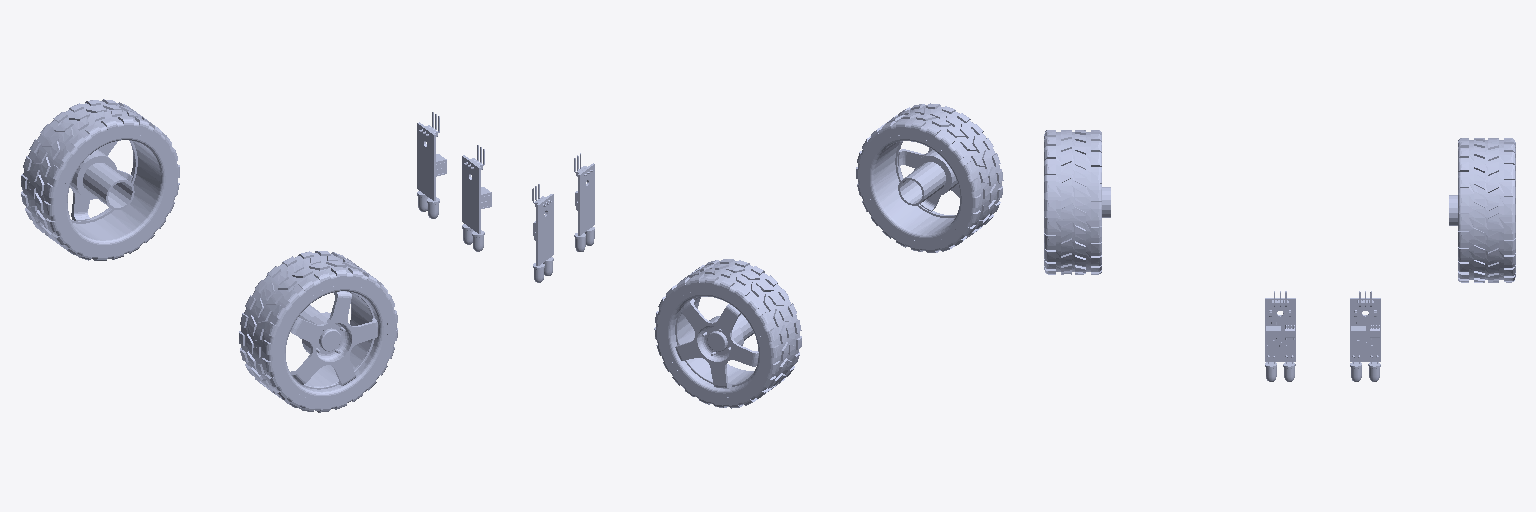
robot.urdf — modelo_carrinho:
<?xml version="1.0" encoding="utf-8"?>
<!-- This URDF was automatically created by SolidWorks to URDF Exporter! Originally created by [author] ([email redacted]) 
     Commit Version: 1.6.0-1-g15f4949  Build Version: 1.6.7594.29634
     For more information, please see http://wiki.ros.org/sw_urdf_exporter -->
<robot
  name="modelo_carrinho">
  <link
    name="base_link">
    <inertial>
      <origin
        xyz="0.0395767326211164 3.7251184446252E-06 -0.0164029992441527"
        rpy="0 0 0" />
      <mass
        value="0.0297313079671725" />
      <inertia
        ixx="4.88803892671331E-05"
        ixy="5.70121507054806E-21"
        ixz="1.86566442421859E-23"
        iyy="0.000107552977589956"
        iyz="-4.42764590535738E-23"
        izz="0.000156250479332308" />
    </inertial>
    <visual>
      <origin
        xyz="0 0 0"
        rpy="0 0 0" />
      <geometry>
        <mesh
          filename="package://modelo_carrinho/meshes/base_link.STL" />
      </geometry>
      <material
        name="">
        <color
          rgba="1 1 1 1" />
      </material>
    </visual>
    <collision>
      <origin
        xyz="0 0 0"
        rpy="0 0 0" />
      <geometry>
        <mesh
          filename="package://modelo_carrinho/meshes/base_link.STL" />
      </geometry>
    </collision>
  </link>
  <link
    name="sonar_link">
    <inertial>
      <origin
        xyz="0.16231800155356 0.000182522542346367 -0.00345290410239733"
        rpy="0 0 0" />
      <mass
        value="0.0041537160429322" />
      <inertia
        ixx="8.24275084489945E-07"
        ixy="-5.01121738699726E-13"
        ixz="-3.41590248007688E-10"
        iyy="1.86665488656075E-07"
        iyz="1.11208166672831E-12"
        izz="7.86229940420769E-07" />
    </inertial>
    <visual>
      <origin
        xyz="0 0 0"
        rpy="0 0 0" />
      <geometry>
        <mesh
          filename="package://modelo_carrinho/meshes/sonar_link.STL" />
      </geometry>
      <material
        name="">
        <color
          rgba="0.792156862745098 0.819607843137255 0.933333333333333 1" />
      </material>
    </visual>
    <collision>
      <origin
        xyz="0 0 0"
        rpy="0 0 0" />
      <geometry>
        <mesh
          filename="package://modelo_carrinho/meshes/sonar_link.STL" />
      </geometry>
    </collision>
  </link>
  <joint
    name="sonar_joint"
    type="prismatic">
    <origin
      xyz="0 0 0"
      rpy="0 0 0" />
    <parent
      link="base_link" />
    <child
      link="sonar_link" />
    <axis
      xyz="0 1 0" />
    <limit
      lower="0"
      upper="0"
      effort="0"
      velocity="0" />
  </joint>
  <link
    name="bateria_link">
    <inertial>
      <origin
        xyz="0.0569730479746616 -0.00259601435525665 0.00825660066006605"
        rpy="0 0 0" />
      <mass
        value="0.23463372251468" />
      <inertia
        ixx="0.000215706289639484"
        ixy="-6.66914368870879E-21"
        ixz="4.32977351883238E-22"
        iyy="9.92905114197342E-05"
        iyz="-8.93096567615848E-21"
        izz="0.000242988197048486" />
    </inertial>
    <visual>
      <origin
        xyz="0 0 0"
        rpy="0 0 0" />
      <geometry>
        <mesh
          filename="package://modelo_carrinho/meshes/bateria_link.STL" />
      </geometry>
      <material
        name="">
        <color
          rgba="0.109803921568627 0.109803921568627 0.109803921568627 1" />
      </material>
    </visual>
    <collision>
      <origin
        xyz="0 0 0"
        rpy="0 0 0" />
      <geometry>
        <mesh
          filename="package://modelo_carrinho/meshes/bateria_link.STL" />
      </geometry>
    </collision>
  </link>
  <joint
    name="bateria_joint"
    type="fixed">
    <origin
      xyz="0 0 0"
      rpy="0 0 0" />
    <parent
      link="base_link" />
    <child
      link="bateria_link" />
    <axis
      xyz="0 0 0" />
  </joint>
  <link
    name="arduino_link">
    <inertial>
      <origin
        xyz="-0.0114425264214785 -0.00528872137884197 -0.00863751064889159"
        rpy="0 0 0" />
      <mass
        value="0.0101843904665299" />
      <inertia
        ixx="2.20878499946636E-06"
        ixy="-3.57468350804334E-08"
        ixz="-1.31421007778117E-10"
        iyy="1.33560681881314E-06"
        iyz="-2.91813662719251E-09"
        izz="3.47251972817078E-06" />
    </inertial>
    <visual>
      <origin
        xyz="0 0 0"
        rpy="0 0 0" />
      <geometry>
        <mesh
          filename="package://modelo_carrinho/meshes/arduino_link.STL" />
      </geometry>
      <material
        name="">
        <color
          rgba="0.792156862745098 0.819607843137255 0.933333333333333 1" />
      </material>
    </visual>
    <collision>
      <origin
        xyz="0 0 0"
        rpy="0 0 0" />
      <geometry>
        <mesh
          filename="package://modelo_carrinho/meshes/arduino_link.STL" />
      </geometry>
    </collision>
  </link>
  <joint
    name="arduino_joint"
    type="fixed">
    <origin
      xyz="0 0 0"
      rpy="0 0 0" />
    <parent
      link="base_link" />
    <child
      link="arduino_link" />
    <axis
      xyz="0 0 0" />
  </joint>
  <link
    name="motoresquerdo_link">
    <inertial>
      <origin
        xyz="-0.0184948377964839 0.0652744137442133 -0.0019933983611185"
        rpy="0 0 0" />
      <mass
        value="0.0236803152457412" />
      <inertia
        ixx="1.57519600391707E-06"
        ixy="-1.61392075105285E-07"
        ixz="-9.47447440847771E-14"
        iyy="8.63753046358715E-06"
        iyz="7.66854683216194E-13"
        izz="8.41491588641159E-06" />
    </inertial>
    <visual>
      <origin
        xyz="0 0 0"
        rpy="0 0 0" />
      <geometry>
        <mesh
          filename="package://modelo_carrinho/meshes/motoresquerdo_link.STL" />
      </geometry>
      <material
        name="">
        <color
          rgba="0.792156862745098 0.819607843137255 0.933333333333333 1" />
      </material>
    </visual>
    <collision>
      <origin
        xyz="0 0 0"
        rpy="0 0 0" />
      <geometry>
        <mesh
          filename="package://modelo_carrinho/meshes/motoresquerdo_link.STL" />
      </geometry>
    </collision>
  </link>
  <joint
    name="motoresquerdo_joint"
    type="fixed">
    <origin
      xyz="0 0 0"
      rpy="0 0 0" />
    <parent
      link="base_link" />
    <child
      link="motoresquerdo_link" />
    <axis
      xyz="1 0 0" />
  </joint>
  <link
    name="motordireito_link">
    <inertial>
      <origin
        xyz="-0.0184948377964839 -0.0659255862557866 -0.0019933983611185"
        rpy="0 0 0" />
      <mass
        value="0.0236803152457412" />
      <inertia
        ixx="1.57519600391707E-06"
        ixy="-1.61392075105282E-07"
        ixz="-9.4744743699589E-14"
        iyy="8.63753046358715E-06"
        iyz="7.66854683019368E-13"
        izz="8.41491588641158E-06" />
    </inertial>
    <visual>
      <origin
        xyz="0 0 0"
        rpy="0 0 0" />
      <geometry>
        <mesh
          filename="package://modelo_carrinho/meshes/motordireito_link.STL" />
      </geometry>
      <material
        name="">
        <color
          rgba="0.792156862745098 0.819607843137255 0.933333333333333 1" />
      </material>
    </visual>
    <collision>
      <origin
        xyz="0 0 0"
        rpy="0 0 0" />
      <geometry>
        <mesh
          filename="package://modelo_carrinho/meshes/motordireito_link.STL" />
      </geometry>
    </collision>
  </link>
  <joint
    name="motordireito_joint"
    type="fixed">
    <origin
      xyz="0 0 0"
      rpy="0 0 0" />
    <parent
      link="base_link" />
    <child
      link="motordireito_link" />
    <axis
      xyz="1 0 0" />
  </joint>
  <link
    name="sensor1_link">
    <inertial>
      <origin
        xyz="0.129870310346086 0.0375954725841611 -0.0062043895740128"
        rpy="0 0 0" />
      <mass
        value="0.0011672687384539" />
      <inertia
        ixx="5.47409115450365E-08"
        ixy="2.09224660226093E-12"
        ixz="-4.24918240082326E-12"
        iyy="4.54677720247576E-08"
        iyz="-9.60984996801466E-14"
        izz="1.1338202252208E-08" />
    </inertial>
    <visual>
      <origin
        xyz="0 0 0"
        rpy="0 0 0" />
      <geometry>
        <mesh
          filename="package://modelo_carrinho/meshes/sensor1_link.STL" />
      </geometry>
      <material
        name="">
        <color
          rgba="0.792156862745098 0.819607843137255 0.933333333333333 1" />
      </material>
    </visual>
    <collision>
      <origin
        xyz="0 0 0"
        rpy="0 0 0" />
      <geometry>
        <mesh
          filename="package://modelo_carrinho/meshes/sensor1_link.STL" />
      </geometry>
    </collision>
  </link>
  <joint
    name="sensor1_joint"
    type="fixed">
    <origin
      xyz="0 0 0"
      rpy="0 0 0" />
    <parent
      link="base_link" />
    <child
      link="sensor1_link" />
    <axis
      xyz="0 0 0" />
  </joint>
  <link
    name="rodaesquerda_link">
    <inertial>
      <origin
        xyz="-2.5679905049647E-07 0.0177438799205313 1.31487906798733E-07"
        rpy="0 0 0" />
      <mass
        value="0.0293925354796172" />
      <inertia
        ixx="1.22579046710474E-05"
        ixy="7.15754454457052E-11"
        ixz="-7.2447632479196E-15"
        iyy="2.03781664028302E-05"
        iyz="-3.64436213658336E-11"
        izz="1.22579046689118E-05" />
    </inertial>
    <visual>
      <origin
        xyz="0 0 0"
        rpy="0 0 0" />
      <geometry>
        <mesh
          filename="package://modelo_carrinho/meshes/rodaesquerda_link.STL" />
      </geometry>
      <material
        name="">
        <color
          rgba="0.792156862745098 0.819607843137255 0.933333333333333 1" />
      </material>
    </visual>
    <collision>
      <origin
        xyz="0 0 0"
        rpy="0 0 0" />
      <geometry>
        <mesh
          filename="package://modelo_carrinho/meshes/rodaesquerda_link.STL" />
      </geometry>
    </collision>
  </link>
  <joint
    name="rodaesqueda_joint"
    type="continuous">
    <origin
      xyz="0 0.0755 -0.0019934"
      rpy="0 0 0" />
    <parent
      link="base_link" />
    <child
      link="rodaesquerda_link" />
    <axis
      xyz="0 1 0" />
  </joint>
  <link
    name="rodadireita_link">
    <inertial>
      <origin
        xyz="-7.39889158829499E-08 -0.0177438799205307 -2.78855629448627E-07"
        rpy="0 0 0" />
      <mass
        value="0.0293925354796174" />
      <inertia
        ixx="1.22579046626619E-05"
        ixy="-2.07746425245365E-11"
        ixz="2.97666563205594E-16"
        iyy="2.03781664028303E-05"
        iyz="-7.75860562386328E-11"
        izz="1.22579046772975E-05" />
    </inertial>
    <visual>
      <origin
        xyz="0 0 0"
        rpy="0 0 0" />
      <geometry>
        <mesh
          filename="package://modelo_carrinho/meshes/rodadireita_link.STL" />
      </geometry>
      <material
        name="">
        <color
          rgba="0.792156862745098 0.819607843137255 0.933333333333333 1" />
      </material>
    </visual>
    <collision>
      <origin
        xyz="0 0 0"
        rpy="0 0 0" />
      <geometry>
        <mesh
          filename="package://modelo_carrinho/meshes/rodadireita_link.STL" />
      </geometry>
    </collision>
  </link>
  <joint
    name="rodadireita_joint"
    type="continuous">
    <origin
      xyz="0 -0.076 0.0020066"
      rpy="0 0 0" />
    <parent
      link="base_link" />
    <child
      link="rodadireita_link" />
    <axis
      xyz="0 -1 0" />
  </joint>
  <link
    name="sensor2_link">
    <inertial>
      <origin
        xyz="0.129870310346086 0.0183954725841611 -0.00620438957401274"
        rpy="0 0 0" />
      <mass
        value="0.0011672687384539" />
      <inertia
        ixx="5.47409115450365E-08"
        ixy="2.09224660226144E-12"
        ixz="-4.24918240082212E-12"
        iyy="4.54677720247576E-08"
        iyz="-9.60984996653027E-14"
        izz="1.1338202252208E-08" />
    </inertial>
    <visual>
      <origin
        xyz="0 0 0"
        rpy="0 0 0" />
      <geometry>
        <mesh
          filename="package://modelo_carrinho/meshes/sensor2_link.STL" />
      </geometry>
      <material
        name="">
        <color
          rgba="0.792156862745098 0.819607843137255 0.933333333333333 1" />
      </material>
    </visual>
    <collision>
      <origin
        xyz="0 0 0"
        rpy="0 0 0" />
      <geometry>
        <mesh
          filename="package://modelo_carrinho/meshes/sensor2_link.STL" />
      </geometry>
    </collision>
  </link>
  <joint
    name="sensor2_joint"
    type="fixed">
    <origin
      xyz="0 0 0"
      rpy="0 0 0" />
    <parent
      link="base_link" />
    <child
      link="sensor2_link" />
    <axis
      xyz="0 0 0" />
  </joint>
  <link
    name="sensor3_link">
    <inertial>
      <origin
        xyz="0.129870310346086 -0.000624527415838877 -0.00620438957401281"
        rpy="0 0 0" />
      <mass
        value="0.0011672687384539" />
      <inertia
        ixx="5.47409115450364E-08"
        ixy="2.09224660226391E-12"
        ixz="-4.24918240081788E-12"
        iyy="4.54677720247575E-08"
        iyz="-9.60984996630824E-14"
        izz="1.1338202252208E-08" />
    </inertial>
    <visual>
      <origin
        xyz="0 0 0"
        rpy="0 0 0" />
      <geometry>
        <mesh
          filename="package://modelo_carrinho/meshes/sensor3_link.STL" />
      </geometry>
      <material
        name="">
        <color
          rgba="0.792156862745098 0.819607843137255 0.933333333333333 1" />
      </material>
    </visual>
    <collision>
      <origin
        xyz="0 0 0"
        rpy="0 0 0" />
      <geometry>
        <mesh
          filename="package://modelo_carrinho/meshes/sensor3_link.STL" />
      </geometry>
    </collision>
  </link>
  <joint
    name="sensor3_joint"
    type="fixed">
    <origin
      xyz="0 0 0"
      rpy="0 0 0" />
    <parent
      link="base_link" />
    <child
      link="sensor3_link" />
    <axis
      xyz="0 0 0" />
  </joint>
  <link
    name="sensor4_link">
    <inertial>
      <origin
        xyz="0.129870310346086 -0.0196445274158389 -0.00620438957401277"
        rpy="0 0 0" />
      <mass
        value="0.0011672687384539" />
      <inertia
        ixx="5.47409115450364E-08"
        ixy="2.09224660226064E-12"
        ixz="-4.249182400822E-12"
        iyy="4.54677720247576E-08"
        iyz="-9.60984996638886E-14"
        izz="1.1338202252208E-08" />
    </inertial>
    <visual>
      <origin
        xyz="0 0 0"
        rpy="0 0 0" />
      <geometry>
        <mesh
          filename="package://modelo_carrinho/meshes/sensor4_link.STL" />
      </geometry>
      <material
        name="">
        <color
          rgba="0.792156862745098 0.819607843137255 0.933333333333333 1" />
      </material>
    </visual>
    <collision>
      <origin
        xyz="0 0 0"
        rpy="0 0 0" />
      <geometry>
        <mesh
          filename="package://modelo_carrinho/meshes/sensor4_link.STL" />
      </geometry>
    </collision>
  </link>
  <joint
    name="sensor4_joint"
    type="fixed">
    <origin
      xyz="0 0 0"
      rpy="0 0 0" />
    <parent
      link="base_link" />
    <child
      link="sensor4_link" />
    <axis
      xyz="0 0 0" />
  </joint>
  <link
    name="sensor5_link">
    <inertial>
      <origin
        xyz="0.129870310346086 -0.0384845274158389 -0.00620438957401281"
        rpy="0 0 0" />
      <mass
        value="0.0011672687384539" />
      <inertia
        ixx="5.47409115450365E-08"
        ixy="2.09224660225939E-12"
        ixz="-4.2491824008255E-12"
        iyy="4.54677720247577E-08"
        iyz="-9.60984996881135E-14"
        izz="1.1338202252208E-08" />
    </inertial>
    <visual>
      <origin
        xyz="0 0 0"
        rpy="0 0 0" />
      <geometry>
        <mesh
          filename="package://modelo_carrinho/meshes/sensor5_link.STL" />
      </geometry>
      <material
        name="">
        <color
          rgba="0.792156862745098 0.819607843137255 0.933333333333333 1" />
      </material>
    </visual>
    <collision>
      <origin
        xyz="0 0 0"
        rpy="0 0 0" />
      <geometry>
        <mesh
          filename="package://modelo_carrinho/meshes/sensor5_link.STL" />
      </geometry>
    </collision>
  </link>
  <joint
    name="sensor5_joint"
    type="fixed">
    <origin
      xyz="0 0 0"
      rpy="0 0 0" />
    <parent
      link="base_link" />
    <child
      link="sensor5_link" />
    <axis
      xyz="0 0 0" />
  </joint>
</robot>

--- Facts derived from the render (not from the file) ---
Views: 3 orthographic renders of the robot side by side, from view 1: azimuth 30°, elevation 25°; view 2: azimuth 150°, elevation 25°; view 3: azimuth 270°, elevation 25°.
Robot: modelo_carrinho — 13 links, 12 joints (2 continuous, 1 prismatic, 9 fixed); root link base_link; default pose: every joint at zero.
Visible links, largest first — view 1: rodadireita_link, rodaesquerda_link, sensor1_link, sensor3_link; view 2: rodadireita_link, rodaesquerda_link, sensor1_link, sensor3_link; view 3: rodaesquerda_link, rodadireita_link, sensor1_link, sensor3_link.
Boxes of the visible links, x1,y1,x2,y2 form: rodadireita_link: (239,251,397,412); rodaesquerda_link: (21,99,179,260); sensor1_link: (417,112,446,218); sensor3_link: (462,145,491,251); rodadireita_link: (856,103,1003,252); rodaesquerda_link: (654,259,801,408); sensor1_link: (532,184,553,282); sensor3_link: (574,153,594,251); rodaesquerda_link: (1449,138,1515,282); rodadireita_link: (1044,130,1110,274); sensor1_link: (1350,291,1380,381); sensor3_link: (1265,291,1295,381).
Size in the robot's own frame: 0.1672 by 0.2115 by 0.069 metres.
4 mesh visuals loaded from 13 distinct referenced files (4 binary STL); not drawn: 9 (reference not matched to a file when rendering).